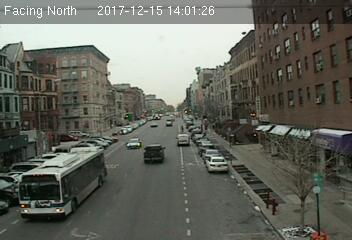bus: (19, 146, 106, 218)
car: (143, 145, 165, 163), (205, 156, 228, 173), (176, 133, 190, 146), (126, 138, 141, 148)
